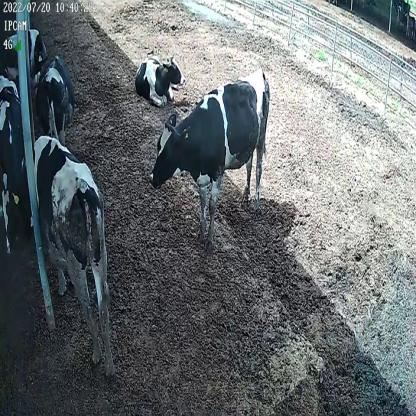cow: (13, 136, 117, 376), (149, 67, 271, 244), (0, 72, 26, 262), (36, 50, 76, 144), (133, 50, 186, 108), (1, 28, 49, 89)
